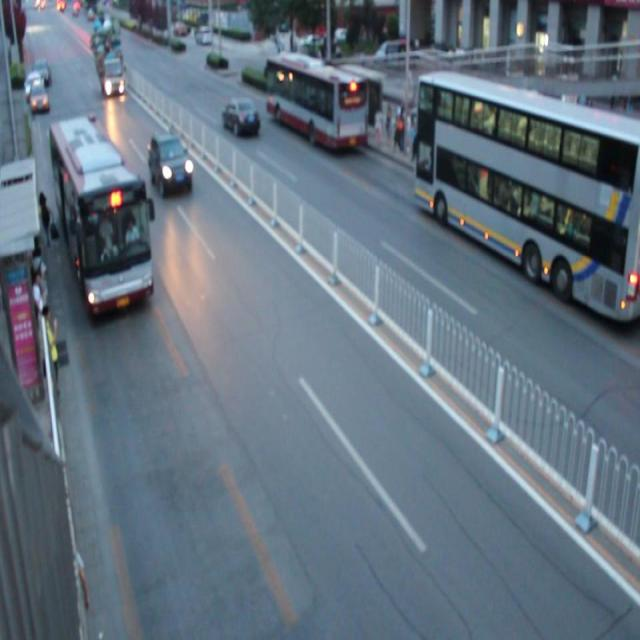car: (148, 132, 193, 196), (221, 96, 260, 140), (28, 79, 50, 112)
van: (416, 74, 640, 318), (47, 120, 154, 316), (264, 51, 366, 153)
